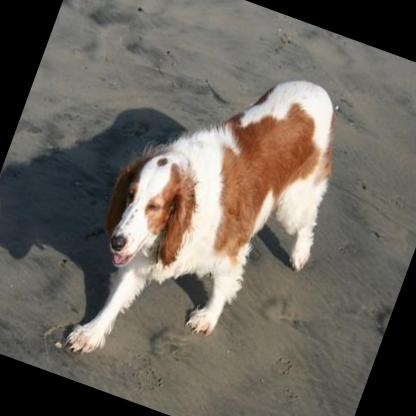Welsh_springer_spaniel: (53, 26, 365, 416)
